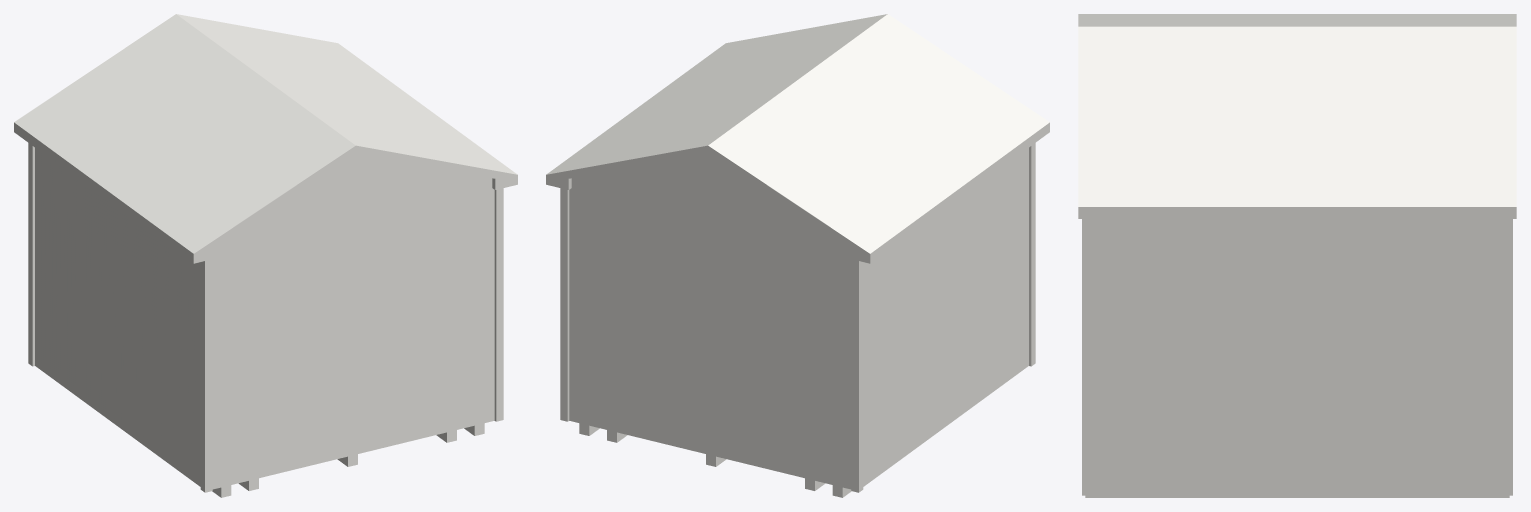
The model's file is 8 wide A-frame_7ft_10x10.obj.
The picture shows the model from 3 angles, left to right: view 1: azimuth 30°, elevation 25°; view 2: azimuth 150°, elevation 25°; view 3: azimuth 270°, elevation 25°; orthographic projection. The views are drawn at different scales.
Visible parts, largest first — view 1: Shed, Roof, Trim, Sides, Floor; view 2: Shed, Roof, Trim, Sides, Floor; view 3: Shed, Roof, Trim, Sides, Floor.
Part boxes in pixels (bbox=[...]): Shed: bbox=[35, 148, 494, 489]; Roof: bbox=[14, 14, 517, 253]; Trim: bbox=[28, 143, 503, 492]; Sides: bbox=[14, 122, 517, 263]; Floor: bbox=[212, 423, 484, 497]; Shed: bbox=[569, 148, 1028, 489]; Roof: bbox=[546, 14, 1049, 253]; Trim: bbox=[560, 143, 1035, 492]; Sides: bbox=[546, 122, 1049, 263]; Floor: bbox=[579, 423, 851, 497]; Shed: bbox=[1092, 219, 1502, 494]; Roof: bbox=[1078, 14, 1516, 206]; Trim: bbox=[1082, 219, 1512, 495]; Sides: bbox=[1078, 207, 1516, 218]; Floor: bbox=[1085, 494, 1509, 497].
Size of the model in its own units: 3.28 by 3.12 by 3.15.
